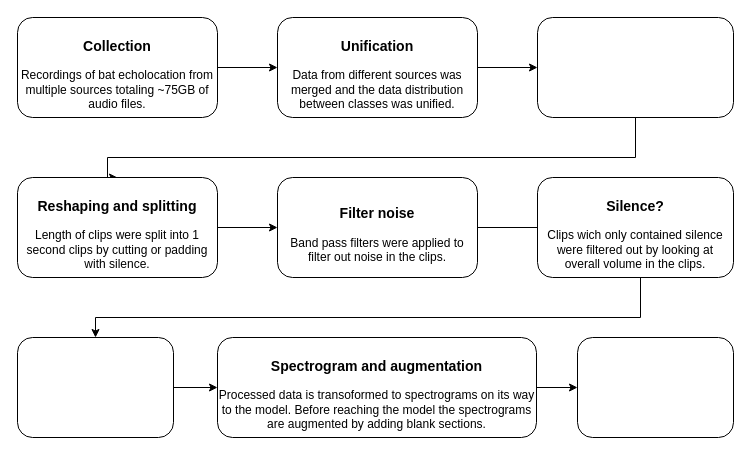
Image size: 751x455. Some labels were removed from this diagram. The centre of each missing label's shape, as x and y in pixels:
"Model" goes at (x=655, y=387).
"Processed data" goes at (x=95, y=387).
"Resampling Audio files were resampled to the target sampling rate of 300,000Hz." goes at (x=635, y=67).
